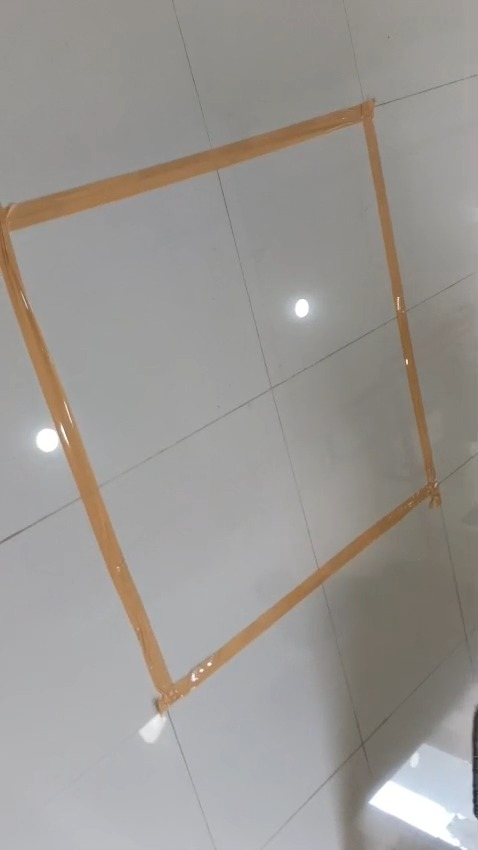floor marking: (0, 100, 440, 712)
